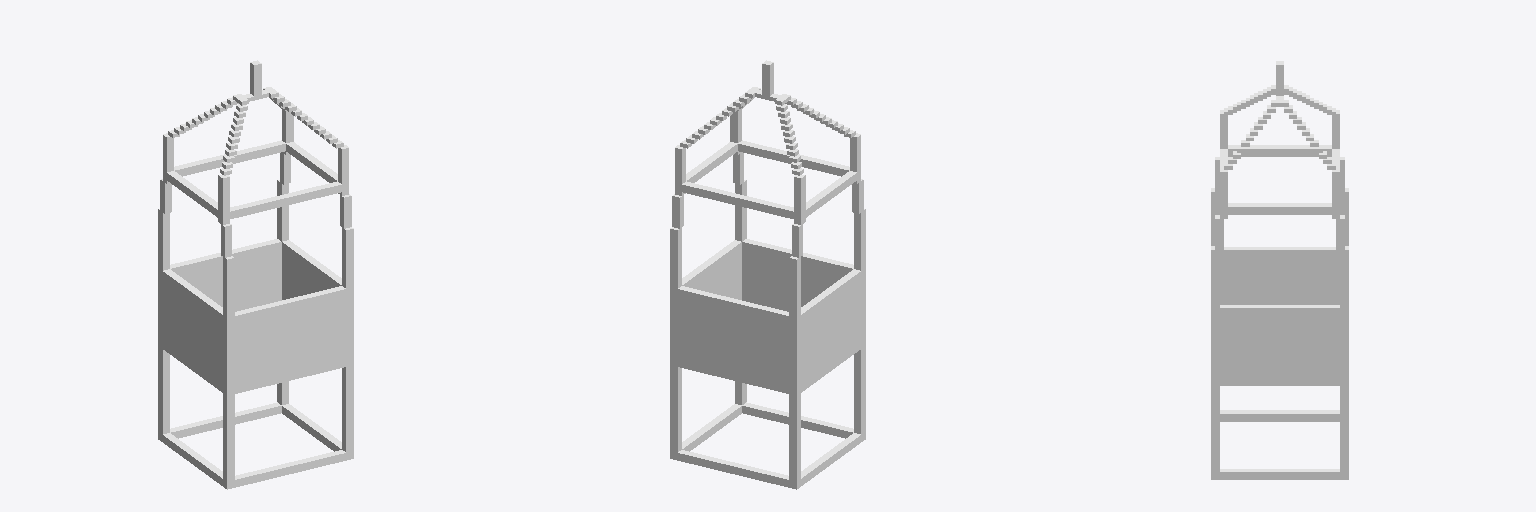
Rendered from SC_Crane_Top.obj.
3 views of the same model, side by side, from view 1: azimuth 30°, elevation 25°; view 2: azimuth 150°, elevation 25°; view 3: azimuth 270°, elevation 25° (orthographic).
Size of the model in its own units: 34 by 99 by 32.